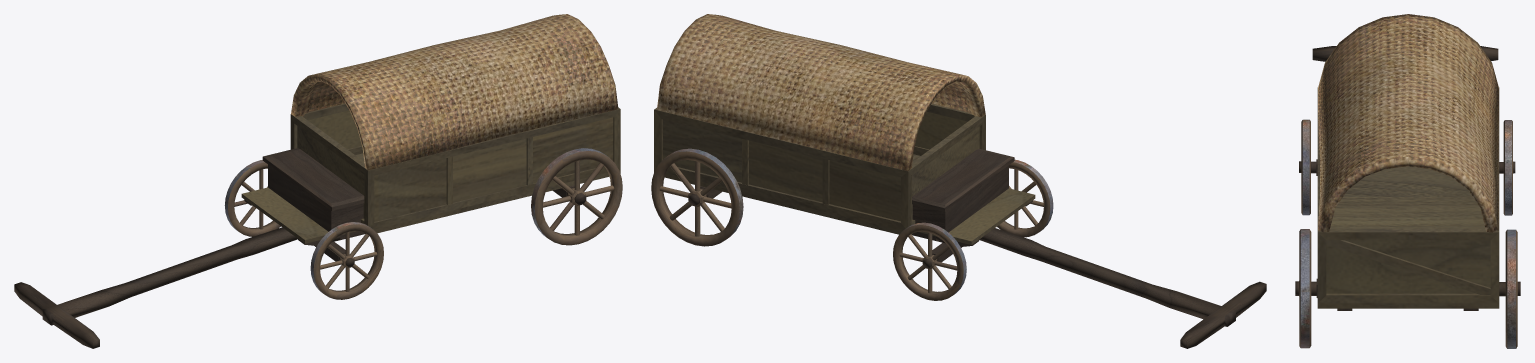
File: wagon.fbx
The picture shows the model from 3 angles, left to right: view 1: azimuth 30°, elevation 25°; view 2: azimuth 150°, elevation 25°; view 3: azimuth 270°, elevation 25°; orthographic projection. The views are drawn at different scales.
Parts seen in each view (by area): view 1: roof, wagwan, undercarriage, wheels, seatcover, metal; view 2: roof, wagwan, undercarriage, wheels, seatcover, metal; view 3: roof, wagwan, metal, wheels, undercarriage.
Part boxes in pixels (bbox=[...]): roof: bbox=[291, 14, 618, 170]; wagwan: bbox=[241, 103, 620, 243]; undercarriage: bbox=[14, 164, 586, 348]; wheels: bbox=[228, 151, 622, 299]; seatcover: bbox=[262, 148, 364, 210]; metal: bbox=[224, 148, 607, 293]; roof: bbox=[657, 14, 985, 171]; wagwan: bbox=[654, 103, 1035, 244]; undercarriage: bbox=[688, 165, 1266, 348]; wheels: bbox=[651, 151, 1050, 300]; seatcover: bbox=[912, 148, 1014, 211]; metal: bbox=[667, 148, 1053, 294]; roof: bbox=[1318, 14, 1498, 232]; wagwan: bbox=[1317, 87, 1499, 308]; metal: bbox=[1300, 119, 1515, 348]; wheels: bbox=[1299, 120, 1517, 348]; undercarriage: bbox=[1295, 46, 1520, 310].
Size of the model in its own units: 710 by 229 by 220.
Materials: 6 (6 with a texture image).
